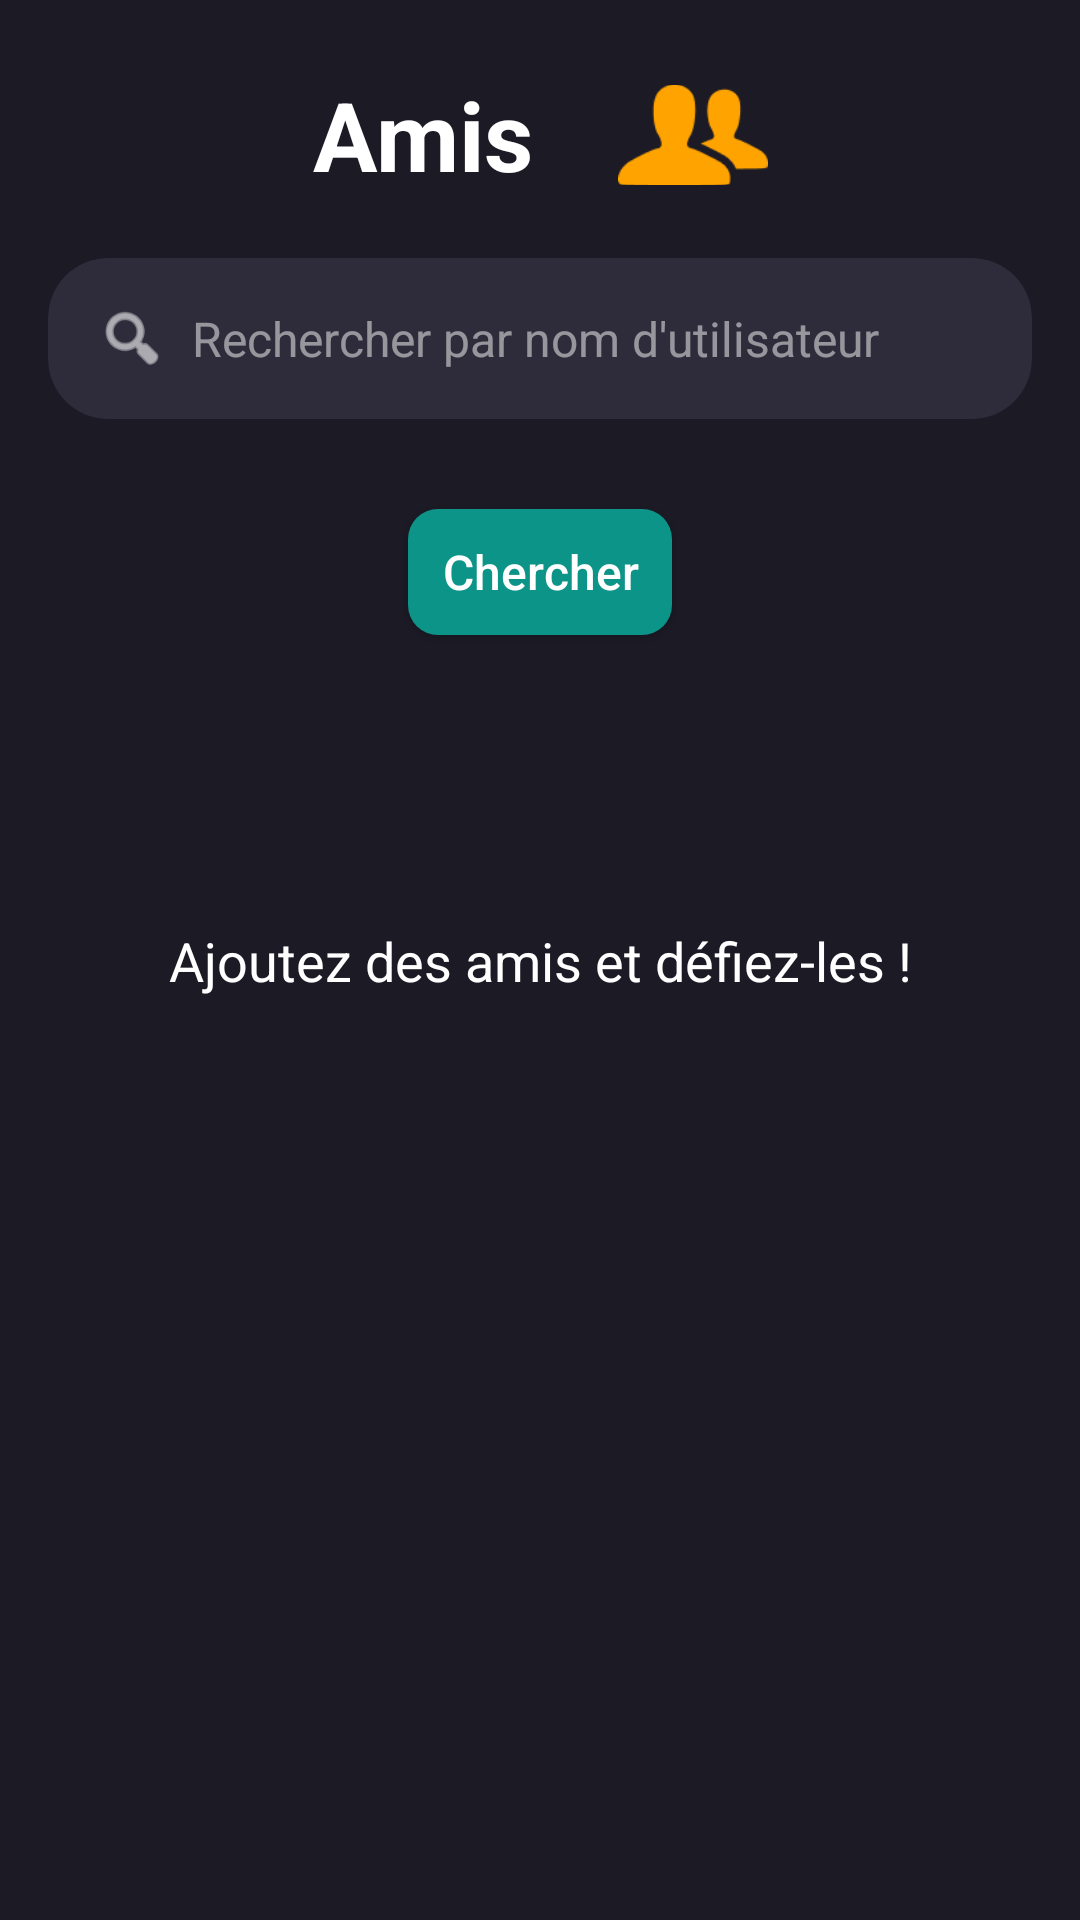

Point at icon controls on the screen. Image size 1080x1920, points as point (x, y).
search: point (132, 338)
